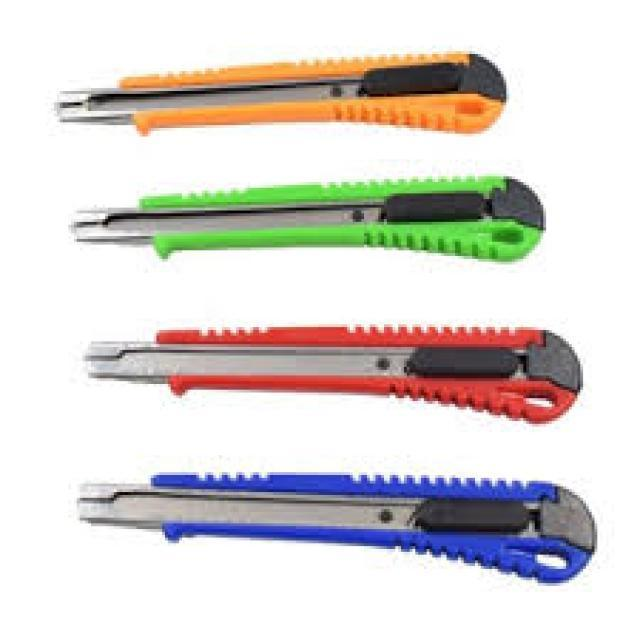cutter: (68, 453, 604, 598), (69, 312, 593, 439), (60, 175, 558, 272), (36, 52, 532, 143)
